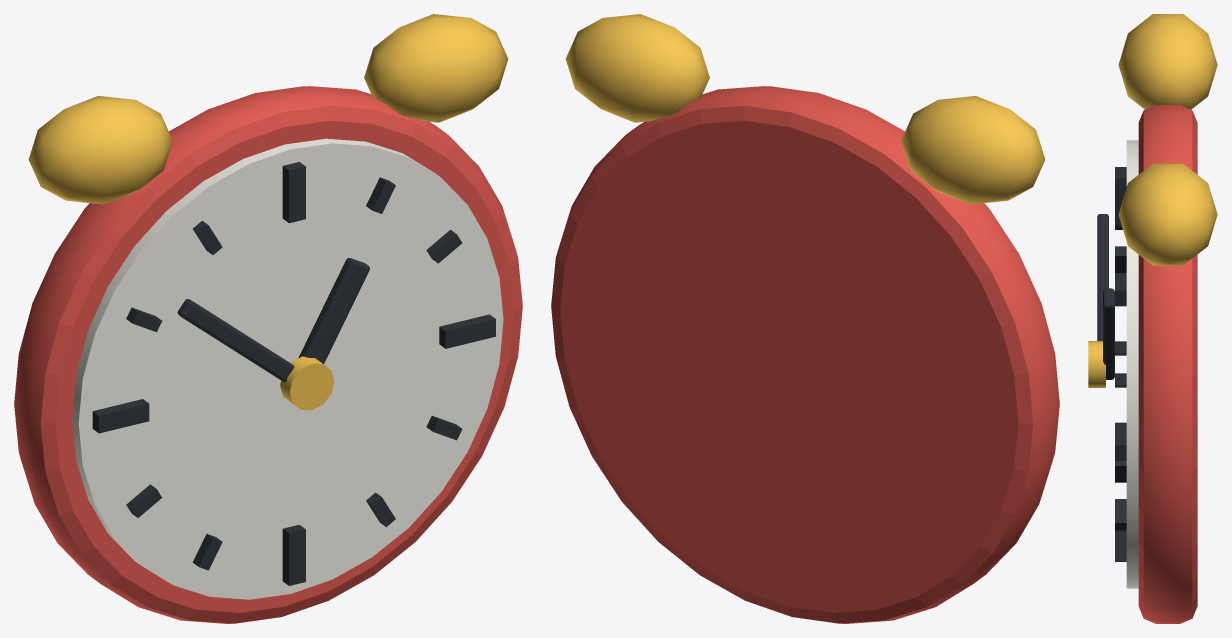
Rendered from relogio.glb.
3 views of the same model, side by side, from view 1: azimuth 30°, elevation 25°; view 2: azimuth 150°, elevation 25°; view 3: azimuth 270°, elevation 25° (orthographic). The views are drawn at different scales.
Parts seen in each view (by area): view 1: relogio; view 2: relogio; view 3: relogio.
Part boxes in pixels (x1,y1,x2,y2): relogio: (14,14,522,623); relogio: (551,14,1059,623); relogio: (1088,14,1217,623).
Size of the model in its own units: 0.88 by 0.944 by 0.219.
